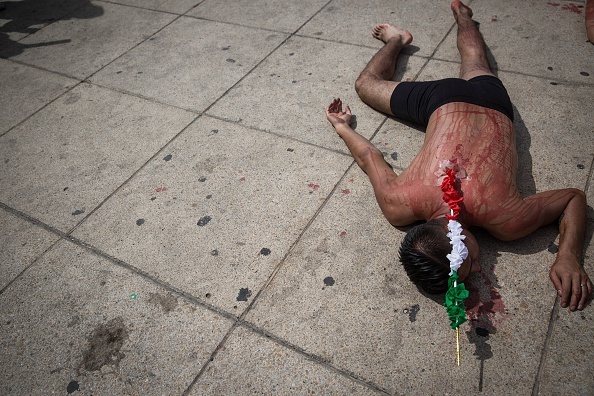deitado: (313, 5, 589, 356)
